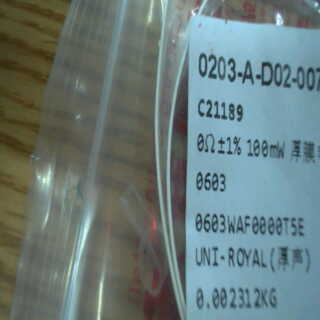0R: (195, 127, 292, 198)
